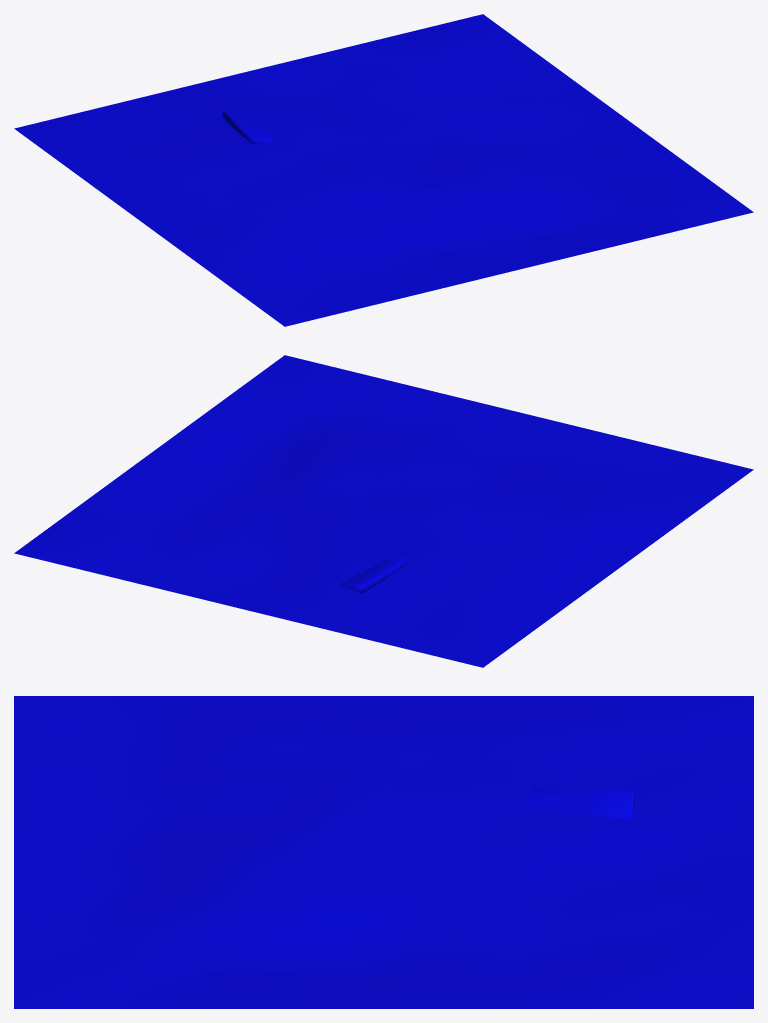
The model's file is seafloor_patch_b.glb.
3 renders of one model, top to bottom at view 1: azimuth 30°, elevation 25°; view 2: azimuth 150°, elevation 25°; view 3: azimuth 270°, elevation 25°, orthographic. The views are drawn at different scales.
Parts seen in each view (by area): view 1: seafloor_patch_b; view 2: seafloor_patch_b; view 3: seafloor_patch_b.
Part boxes in pixels (x1,y1,x2,y2): seafloor_patch_b: [14, 14, 753, 326]; seafloor_patch_b: [14, 355, 753, 667]; seafloor_patch_b: [14, 696, 753, 1008].
Size of what is drawn, in the model's own units: 12 by 0.5217 by 12.
